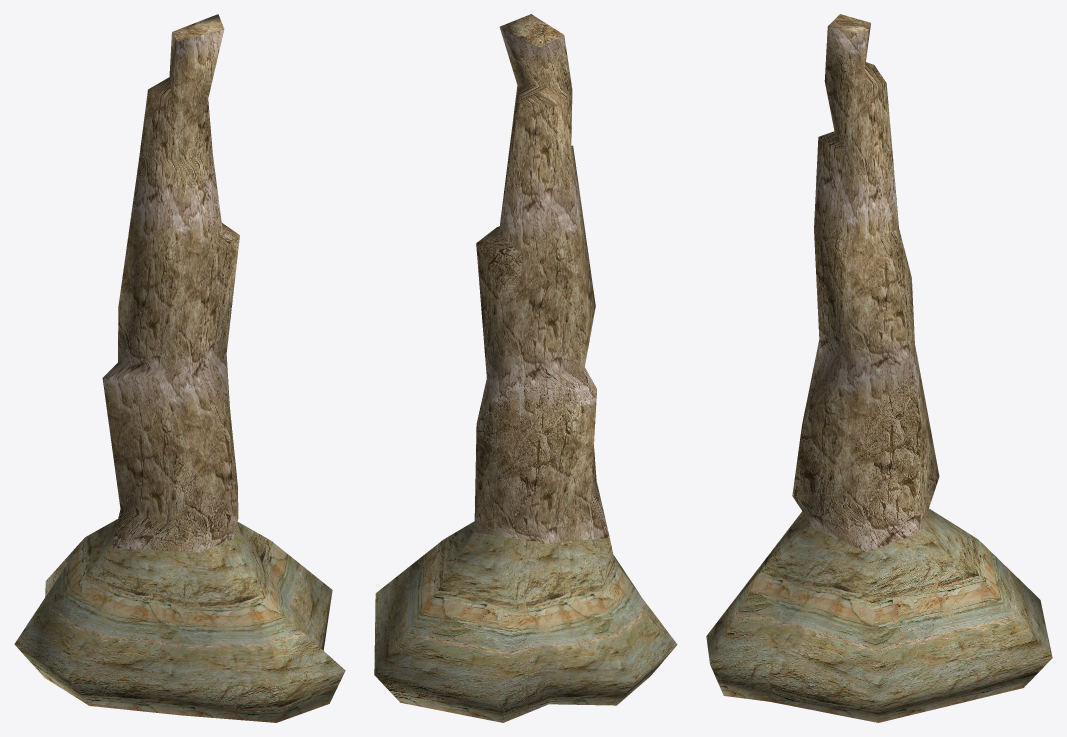
The model's file is dsrt_endr_column_a3_l2.fbx.
The picture shows the model from 3 angles, left to right: view 1: azimuth 30°, elevation 25°; view 2: azimuth 150°, elevation 25°; view 3: azimuth 270°, elevation 25°; orthographic projection. The views are drawn at different scales.
Visible parts, largest first — view 1: mesh_node; view 2: mesh_node; view 3: mesh_node.
Part boxes in pixels (<box>): mesh_node: <box>14,14,345,722</box>; mesh_node: <box>374,14,677,722</box>; mesh_node: <box>706,14,1052,722</box>.
Bounding box in the file's own units: 5.58 × 12.28 × 5.73.
Materials: 2 (2 with a texture image).
